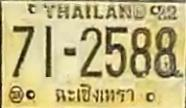1: (44, 24, 51, 78)
2: (80, 26, 101, 76)
5: (104, 25, 127, 77)
7: (12, 25, 34, 76)
8: (154, 26, 180, 78), (130, 26, 150, 77)
CCO: (50, 81, 139, 106)
